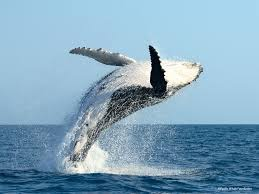humpback: (56, 58, 204, 169)
